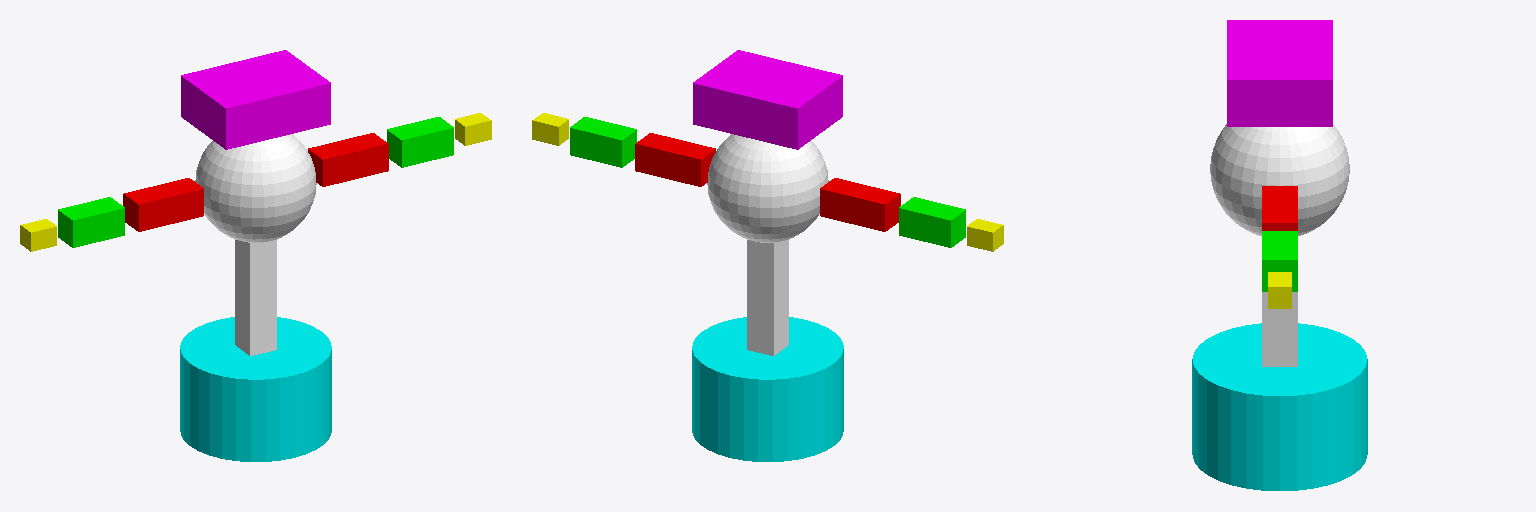
robot.urdf — mobman:
<?xml version="1.0" ?>
<!-- =================================================================================== -->
<!-- |    This document was autogenerated by xacro from mobman.xacro                   | -->
<!-- |    EDITING THIS FILE BY HAND IS NOT RECOMMENDED                                 | -->
<!-- =================================================================================== -->
<robot name="mobman" xmlns:xacro="http://www.ros.org/wiki/xacro">
  <link name="base">
    <visual>
      <geometry>
        <cylinder length="0.3" radius="0.25"/>
      </geometry>
      <origin xyz="0 0 0.15"/>
      <material name="yello">
        <color rgba="0 1 1 1"/>
      </material>
    </visual>
  </link>
  <link name="body">
    <visual>
      <geometry>
        <box size="0.1 0.1 0.425"/>
      </geometry>
      <origin xyz="0 0 0.2"/>
      <material name="white">
        <color rgba="1 1 1 1"/>
      </material>
    </visual>
  </link>
  <link name="chest">
    <visual>
      <geometry>
        <!---     <cylinder radius="${body_size_x/2-gap}" length="${body_size_z-gap}" /> -->
        <sphere radius="0.2"/>
      </geometry>
      <!--- <origin xyz ="0 0 ${body_size_z/2}" /> -->
      <origin xyz="0 0 0"/>
      <material name="white">
        <color rgba="1 1 1 1"/>
      </material>
    </visual>
  </link>
  <link name="head_x"/>
  <link name="head_z">
    <visual>
      <geometry>
        <box size="0.4 0.3 0.15"/>
      </geometry>
      <origin xyz="0 0 0.1"/>
      <material name="blue">
        <color rgba="1 0 1 1"/>
      </material>
    </visual>
  </link>
  <link name="leftArmUp_x"/>
  <link name="leftArmUp_y"/>
  <link name="leftArmUp_z">
    <visual>
      <geometry>
        <box size="0.1 0.1 0.25"/>
      </geometry>
      <origin xyz="0 0 0.15"/>
      <material name="red">
        <color rgba="1 0 0 1"/>
      </material>
    </visual>
  </link>
  <link name="leftArmDown_x"/>
  <link name="leftArmDown_z">
    <visual>
      <geometry>
        <box size="0.1 0.1 0.2"/>
      </geometry>
      <origin xyz="0 0 0.125"/>
      <material name="green">
        <color rgba="0 1 0 1"/>
      </material>
    </visual>
  </link>
  <link name="leftHand">
    <visual>
      <geometry>
        <box size="0.07 0.07 0.1"/>
      </geometry>
      <origin xyz="0 0 0.075"/>
      <material name="hand">
        <color rgba="1 1 0 1"/>
      </material>
    </visual>
  </link>
  <link name="rightArmUp_x"/>
  <link name="rightArmUp_y"/>
  <link name="rightArmUp_z">
    <visual>
      <geometry>
        <box size="0.1 0.1 0.25"/>
      </geometry>
      <origin xyz="0 0 0.15"/>
      <material name="red">
        <color rgba="1 0 0 1"/>
      </material>
    </visual>
  </link>
  <link name="rightArmDown_x"/>
  <link name="rightArmDown_z">
    <visual>
      <geometry>
        <box size="0.1 0.1 0.2"/>
      </geometry>
      <origin xyz="0 0 0.125"/>
      <material name="green">
        <color rgba="0 1 0 1"/>
      </material>
    </visual>
  </link>
  <link name="rightHand">
    <visual>
      <geometry>
        <box size="0.07 0.07 0.1"/>
      </geometry>
      <origin xyz="0 0 0.075"/>
      <material name="hand">
        <color rgba="1 1 0 1"/>
      </material>
    </visual>
  </link>
  <joint name="joint_body" type="fixed">
    <parent link="base"/>
    <child link="body"/>
    <origin rpy="0 0 0" xyz="0 0 0.3"/>
  </joint>
  <joint name="joint_chest" type="fixed">
    <parent link="body"/>
    <child link="chest"/>
    <origin rpy="0 0 0" xyz=" 0 0 0.6"/>
  </joint>
  <joint name="joint_head_x" type="continuous">
    <parent link="chest"/>
    <child link="head_x"/>
    <origin rpy="0 0 0" xyz="0 0 0.2"/>
    <axis xyz="1 0 0"/>
  </joint>
  <joint name="joint_head_z" type="continuous">
    <parent link="head_x"/>
    <child link="head_z"/>
    <origin rpy="0 0 0" xyz="0 0 0"/>
    <axis xyz="0 0 1"/>
  </joint>
  <joint name="joint_leftArmUp_x" type="continuous">
    <parent link="chest"/>
    <child link="leftArmUp_x"/>
    <origin rpy="0 1.57 0" xyz="0.2 0 0.0"/>
    <axis xyz="1 0 0"/>
  </joint>
  <joint name="joint_leftArmUp_y" type="continuous">
    <parent link="leftArmUp_x"/>
    <child link="leftArmUp_y"/>
    <origin rpy="0 0 0" xyz="0 0 0"/>
    <axis xyz="0 1 0"/>
  </joint>
  <joint name="joint_leftArmUp_z" type="continuous">
    <parent link="leftArmUp_y"/>
    <child link="leftArmUp_z"/>
    <origin rpy="0 0 0" xyz="0 0 0"/>
    <axis xyz="0 0 1"/>
  </joint>
  <joint name="joint_leftArmDown_x" type="continuous">
    <parent link="leftArmUp_z"/>
    <child link="leftArmDown_x"/>
    <origin rpy="0 0 0" xyz="0 0 0.3"/>
    <axis xyz="1 0 0"/>
  </joint>
  <joint name="joint_leftArmDown_z" type="continuous">
    <parent link="leftArmDown_x"/>
    <child link="leftArmDown_z"/>
    <origin rpy="0 0 0" xyz="0 0 0"/>
    <axis xyz="0 0 1"/>
  </joint>
  <joint name="joint_leftHand_x" type="continuous">
    <parent link="leftArmDown_z"/>
    <child link="leftHand"/>
    <origin rpy="0 0 0" xyz="0 0 0.25"/>
    <axis xyz="1 0 0"/>
  </joint>
  <joint name="joint_rightArmUp_x" type="continuous">
    <parent link="chest"/>
    <child link="rightArmUp_x"/>
    <origin rpy="0 -1.57 0" xyz="-0.2 0 0.0"/>
    <axis xyz="1 0 0"/>
  </joint>
  <joint name="joint_rightArmUp_y" type="continuous">
    <parent link="rightArmUp_x"/>
    <child link="rightArmUp_y"/>
    <origin rpy="0 0 0" xyz="0 0 0"/>
    <axis xyz="0 1 0"/>
  </joint>
  <joint name="joint_rightArmUp_z" type="continuous">
    <parent link="rightArmUp_y"/>
    <child link="rightArmUp_z"/>
    <origin rpy="0 0 0" xyz="0 0 0"/>
    <axis xyz="0 0 1"/>
  </joint>
  <joint name="joint_rightArmDown_x" type="continuous">
    <parent link="rightArmUp_z"/>
    <child link="rightArmDown_x"/>
    <origin rpy="0 0 0" xyz="0 0 0.3"/>
    <axis xyz="1 0 0"/>
  </joint>
  <joint name="joint_rightArmDown_z" type="continuous">
    <parent link="rightArmDown_x"/>
    <child link="rightArmDown_z"/>
    <origin rpy="0 0 0" xyz="0 0 0"/>
    <axis xyz="0 0 1"/>
  </joint>
  <joint name="joint_rightHand_x" type="continuous">
    <parent link="rightArmDown_z"/>
    <child link="rightHand"/>
    <origin rpy="0 0 0" xyz="0 0 0.25"/>
    <axis xyz="1 0 0"/>
  </joint>
</robot>

--- Facts derived from the render (not from the file) ---
The picture shows the robot from 3 angles, left to right: view 1: azimuth 30°, elevation 25°; view 2: azimuth 150°, elevation 25°; view 3: azimuth 270°, elevation 25°; orthographic projection.
Model mobman with 17 links and 16 joints (14 continuous, 2 fixed), rooted at base, posed every joint at zero.
Visible links, largest first — view 1: base, head_z, chest, body, rightArmUp_z, leftArmUp_z, rightArmDown_z, leftArmDown_z, leftHand, rightHand; view 2: base, head_z, chest, body, rightArmUp_z, leftArmUp_z, rightArmDown_z, leftArmDown_z, leftHand, rightHand; view 3: base, head_z, chest, body, leftArmDown_z, leftArmUp_z, leftHand.
Link boxes in pixels (x1,y1,x2,y2): base: (180, 317, 331, 461); head_z: (181, 50, 330, 149); chest: (195, 134, 316, 242); body: (235, 240, 276, 355); rightArmUp_z: (123, 178, 203, 231); leftArmUp_z: (308, 133, 388, 186); rightArmDown_z: (58, 197, 124, 247); leftArmDown_z: (387, 117, 453, 167); leftHand: (455, 113, 491, 145); rightHand: (20, 219, 56, 251); base: (692, 317, 843, 461); head_z: (693, 50, 842, 149); chest: (707, 134, 828, 242); body: (747, 240, 788, 355); rightArmUp_z: (820, 178, 900, 231); leftArmUp_z: (635, 133, 715, 186); rightArmDown_z: (899, 197, 965, 247); leftArmDown_z: (570, 117, 636, 167); leftHand: (532, 113, 568, 145); rightHand: (967, 219, 1003, 251); base: (1192, 323, 1367, 490); head_z: (1227, 20, 1332, 126); chest: (1210, 124, 1349, 235); body: (1262, 292, 1297, 366); leftArmDown_z: (1262, 231, 1297, 291); leftArmUp_z: (1262, 186, 1297, 230); leftHand: (1268, 272, 1291, 308).
Size in the robot's own frame: 1.75 by 0.5 by 1.27 metres.
Geometry: primitives only (box / cylinder / sphere), no mesh files.
